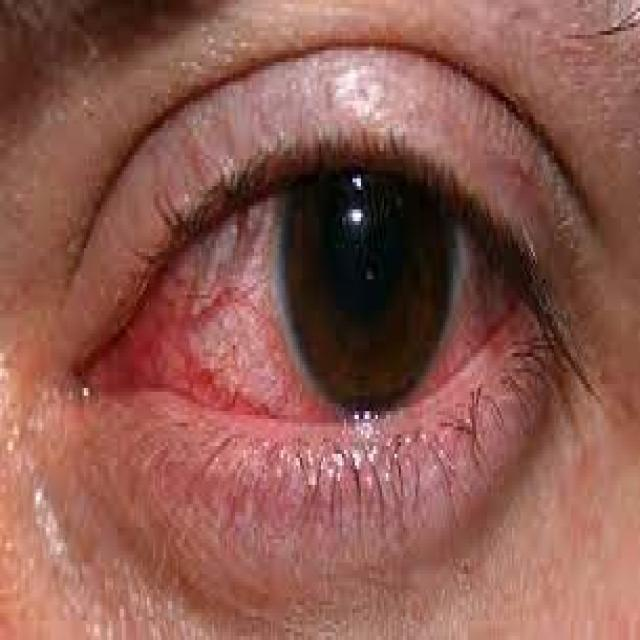Conjunctivitis: (74, 218, 544, 429)
